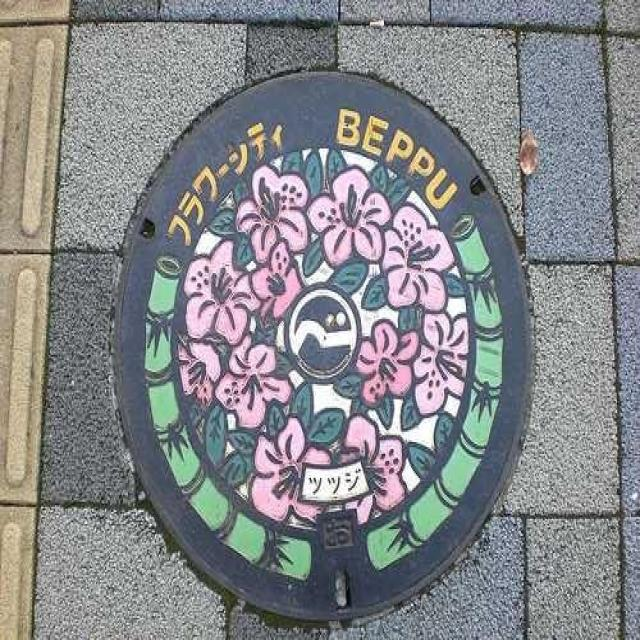manhole: (115, 73, 531, 621)
